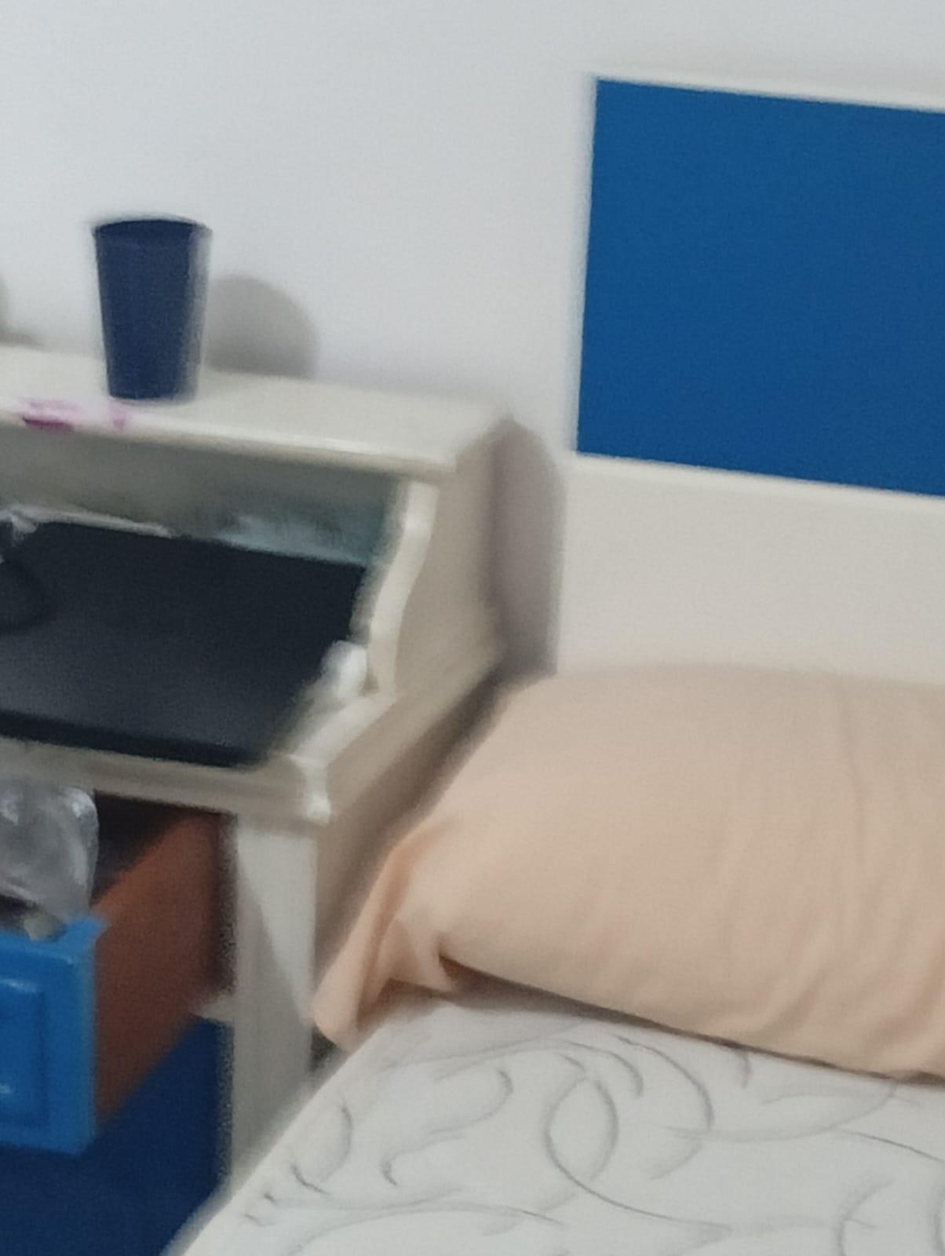cup: (93, 217, 208, 400)
